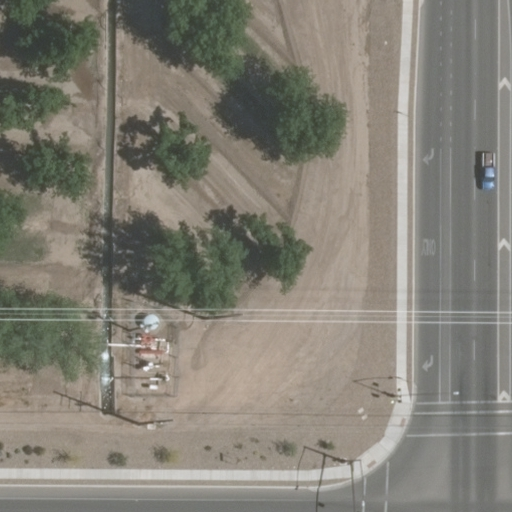DT: (194, 303, 246, 326), (133, 406, 176, 433)
